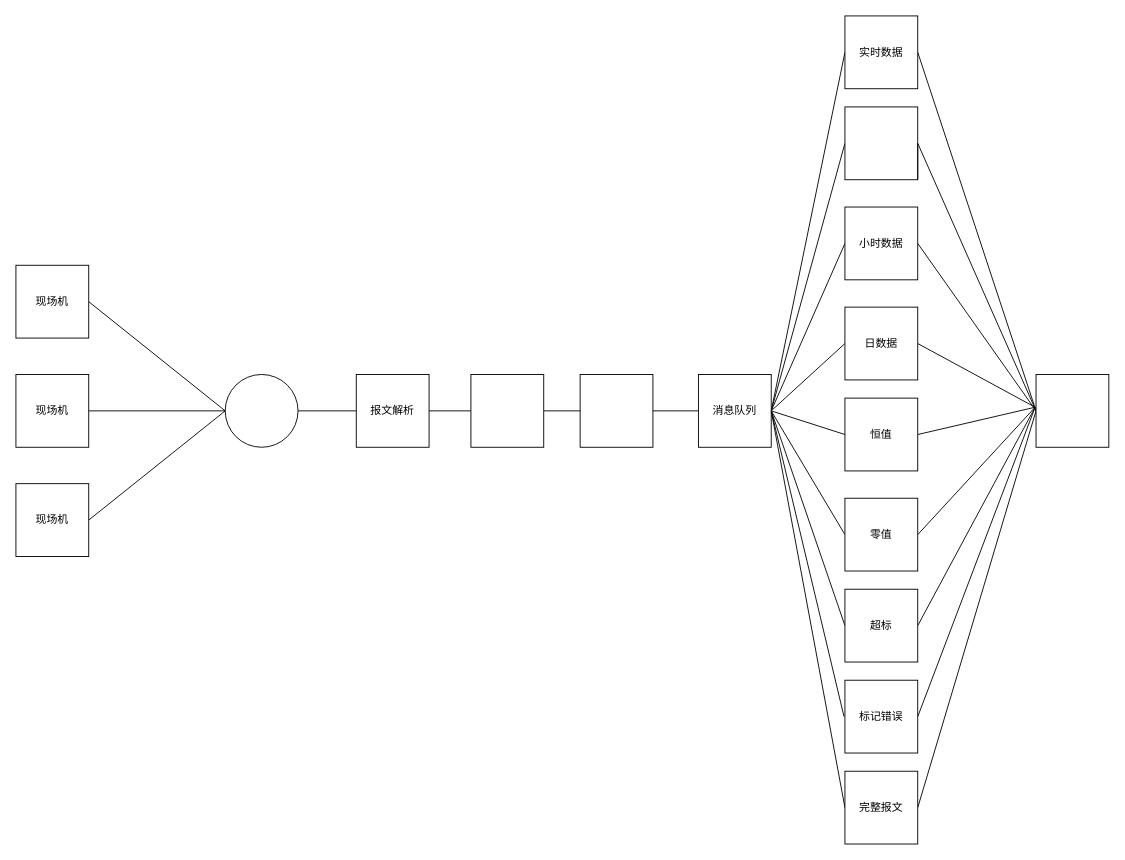
The diagram is 1125 pixels wide and 860 high, and some of its shapes have lost their labels. The shapes that lost their labels are listed below. From the top down, each one's centre as x and y in pixels, then its label:
At pixel 881 143: "分钟数据".
At pixel 261 410: "服务器监听端口".
At pixel 507 410: "封装，对象".
At pixel 616 410: "过滤".
At pixel 1072 410: "db".
